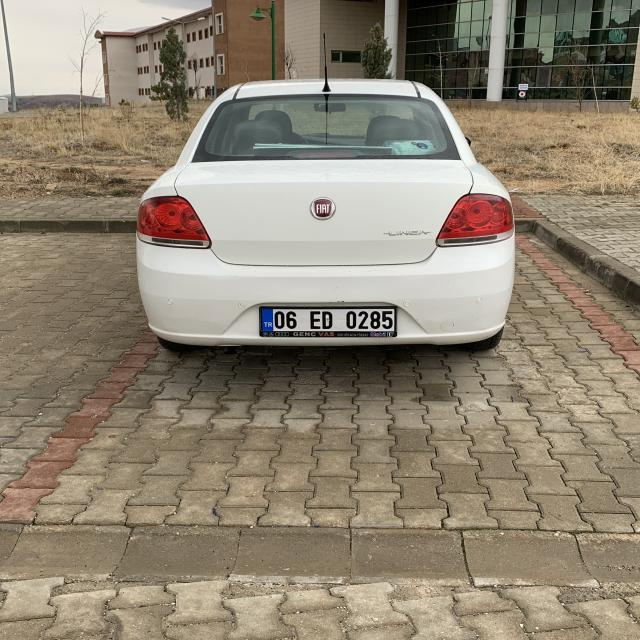license_plate: (261, 308, 397, 334)
